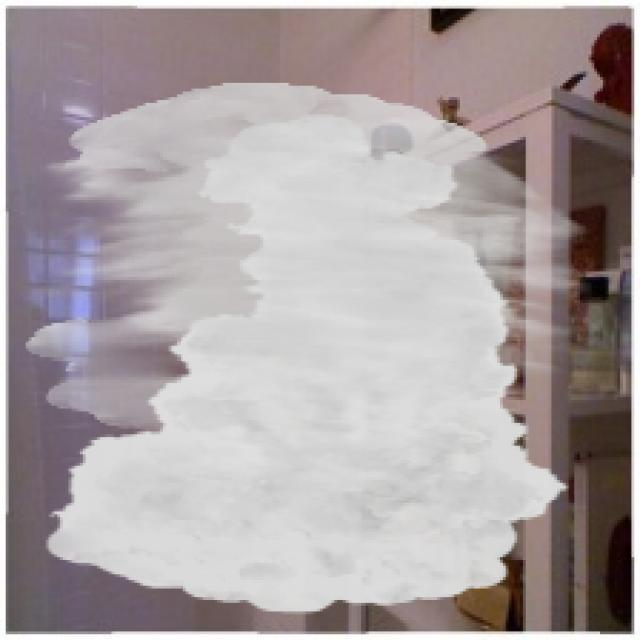Smoke: (26, 82, 592, 614)
